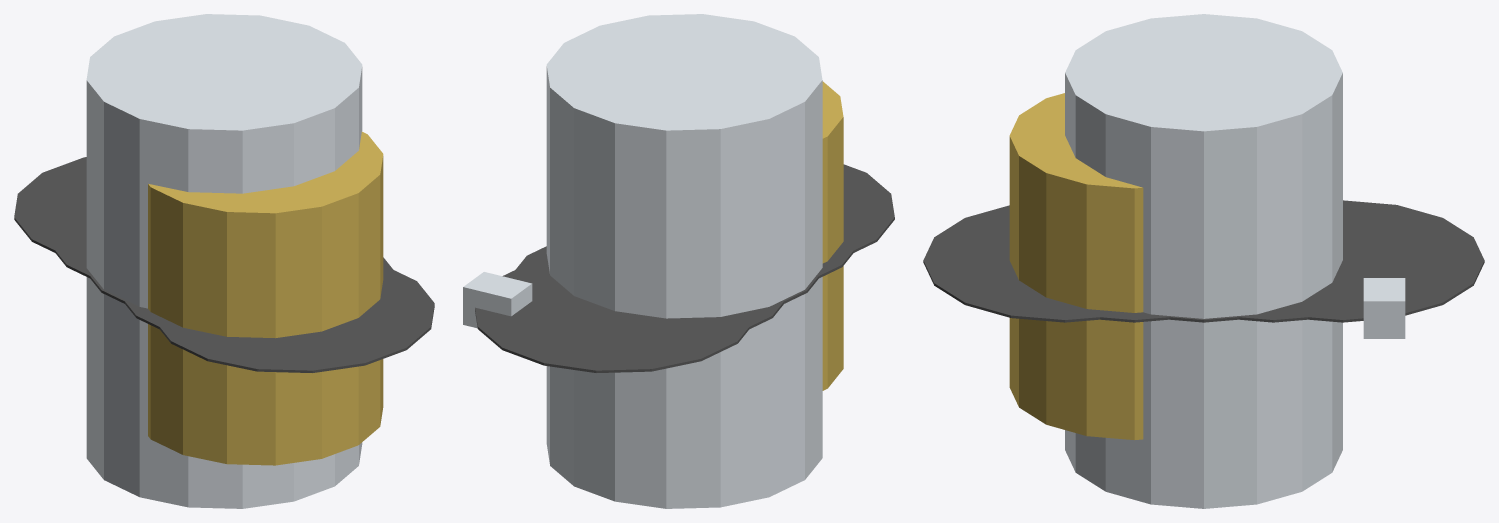
The model's file is beaker_1L.glb.
The picture shows the model from 3 angles, left to right: view 1: azimuth 30°, elevation 25°; view 2: azimuth 150°, elevation 25°; view 3: azimuth 270°, elevation 25°; orthographic projection.
Visible parts, largest first — view 1: BeakerBody, Liquid, Mark_0, Mark_4, Mark_1, Mark_3; view 2: BeakerBody, Mark_4, Mark_3, Liquid, Mark_0, Spout, Mark_1; view 3: BeakerBody, Liquid, Mark_4, Mark_0, Mark_3, Spout, Mark_1.
Boxes of the visible parts, box(x1,y1,x2,y2) form: BeakerBody: box(86, 14, 362, 508); Liquid: box(148, 132, 383, 465); Mark_0: box(153, 268, 434, 372); Mark_4: box(14, 157, 86, 258); Mark_1: box(125, 257, 397, 344); Mark_3: box(50, 195, 93, 278); BeakerBody: box(546, 14, 822, 508); Mark_4: box(475, 264, 755, 372); Mark_3: box(515, 246, 783, 345); Liquid: box(822, 81, 843, 390); Mark_0: box(834, 164, 894, 253); Spout: box(463, 272, 532, 328); Mark_1: box(815, 212, 856, 278); BeakerBody: box(1065, 14, 1342, 508); Liquid: box(1009, 93, 1143, 440); Mark_4: box(1278, 200, 1484, 322); Mark_0: box(923, 205, 1128, 322); Mark_3: box(1236, 209, 1400, 322); Spout: box(1363, 278, 1405, 338); Mark_1: box(1021, 286, 1173, 322).
Bounding box in the file's own units: 2.04 × 3 × 4.04.
